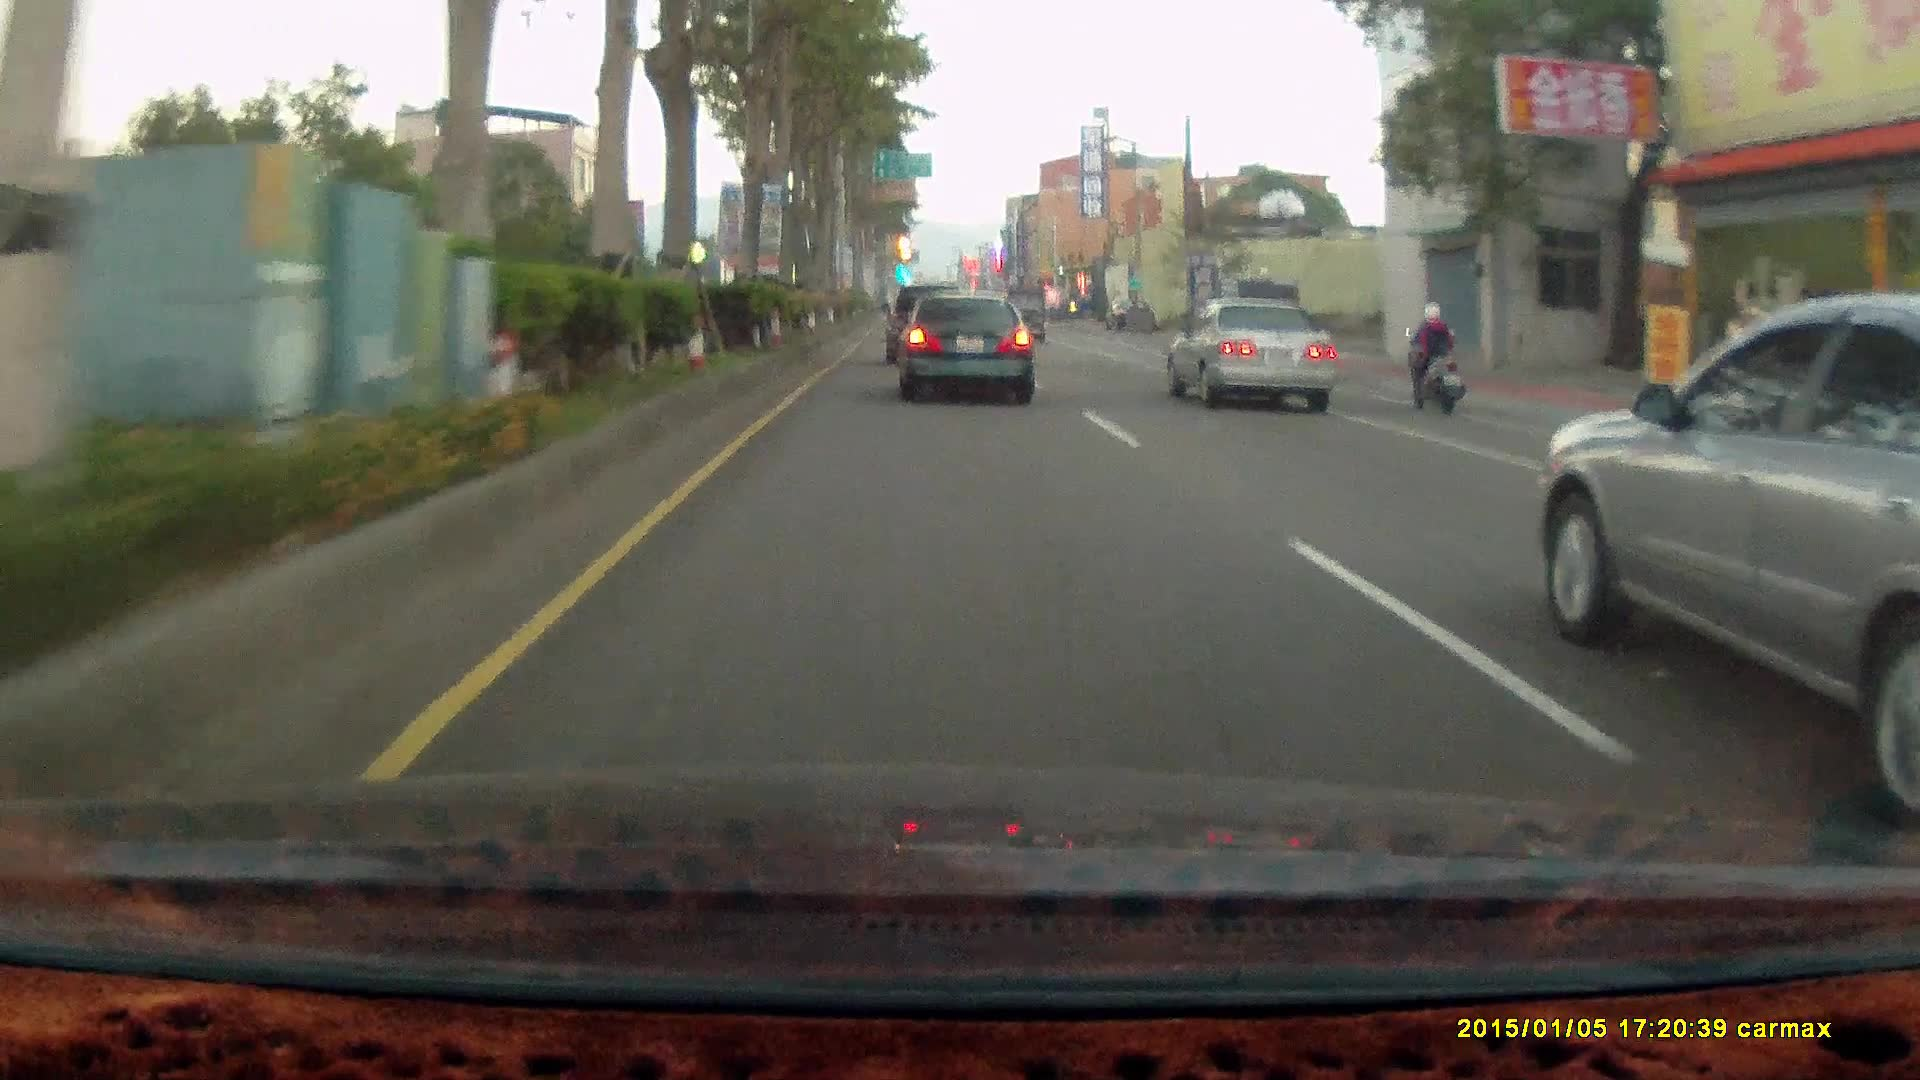rider: (1392, 292, 1476, 421), (1402, 295, 1467, 410)
vehicle: (1533, 296, 1920, 826), (1164, 296, 1338, 413), (1174, 299, 1337, 405), (896, 290, 1036, 402), (898, 289, 1036, 400), (885, 282, 973, 365), (1213, 280, 1300, 359), (882, 282, 964, 362), (1000, 287, 1047, 342)
